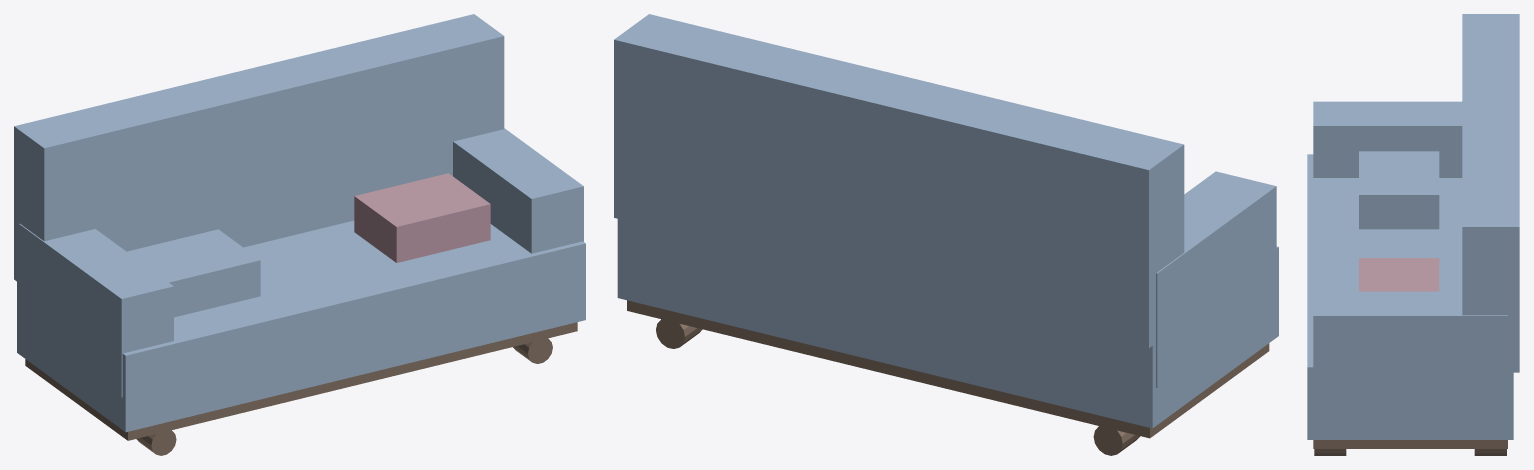
File: sofa_basic.glb
The picture shows the model from 3 angles, left to right: view 1: azimuth 30°, elevation 25°; view 2: azimuth 150°, elevation 25°; view 3: azimuth 270°, elevation 25°; orthographic projection. The views are drawn at different scales.
Parts seen in each view (by area): view 1: p001, p000, p002, p003, p010, p009, p004, p005, p006; view 2: p001, p000, p002, p004, p007, p008; view 3: p003, p000, p001, p002, p009, p010, p004, p006, p008.
Boxes of the visible parts, left/top/right/bottom form: p001: left=14, top=14, right=504, bottom=282; p000: left=17, top=220, right=585, bottom=432; p002: left=19, top=224, right=173, bottom=397; p003: left=453, top=128, right=583, bottom=253; p010: left=354, top=173, right=490, bottom=262; p009: left=127, top=229, right=260, bottom=317; p004: left=25, top=322, right=577, bottom=440; p005: left=136, top=430, right=176, bottom=455; p006: left=513, top=338, right=552, bottom=363; p001: left=614, top=14, right=1184, bottom=348; p000: left=617, top=219, right=1278, bottom=428; p002: left=1156, top=171, right=1276, bottom=387; p004: left=627, top=300, right=1269, bottom=438; p007: left=1093, top=426, right=1140, bottom=455; p008: left=656, top=319, right=702, bottom=348; p003: left=1313, top=291, right=1507, bottom=409; p000: left=1307, top=154, right=1513, bottom=439; p001: left=1462, top=14, right=1519, bottom=372; p002: left=1313, top=101, right=1462, bottom=177; p009: left=1359, top=151, right=1439, bottom=229; p010: left=1359, top=258, right=1439, bottom=291; p004: left=1313, top=440, right=1507, bottom=448; p006: left=1314, top=449, right=1346, bottom=455; p008: left=1474, top=449, right=1506, bottom=455.
Size of the model in its own units: 2.21 by 1.19 by 0.925.
